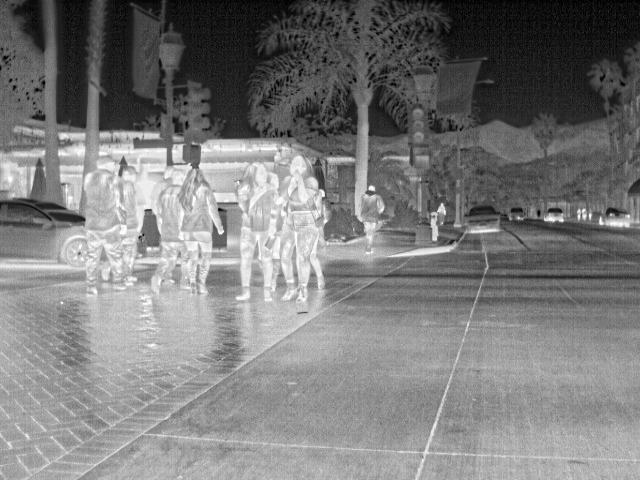car: (3, 196, 90, 271), (464, 204, 503, 236), (596, 208, 634, 230), (542, 209, 564, 226), (508, 206, 528, 224)
person: (277, 153, 325, 305), (233, 163, 279, 303), (176, 167, 225, 293), (83, 155, 128, 286), (147, 168, 191, 294), (126, 167, 149, 267), (359, 183, 386, 256), (435, 200, 448, 228)
